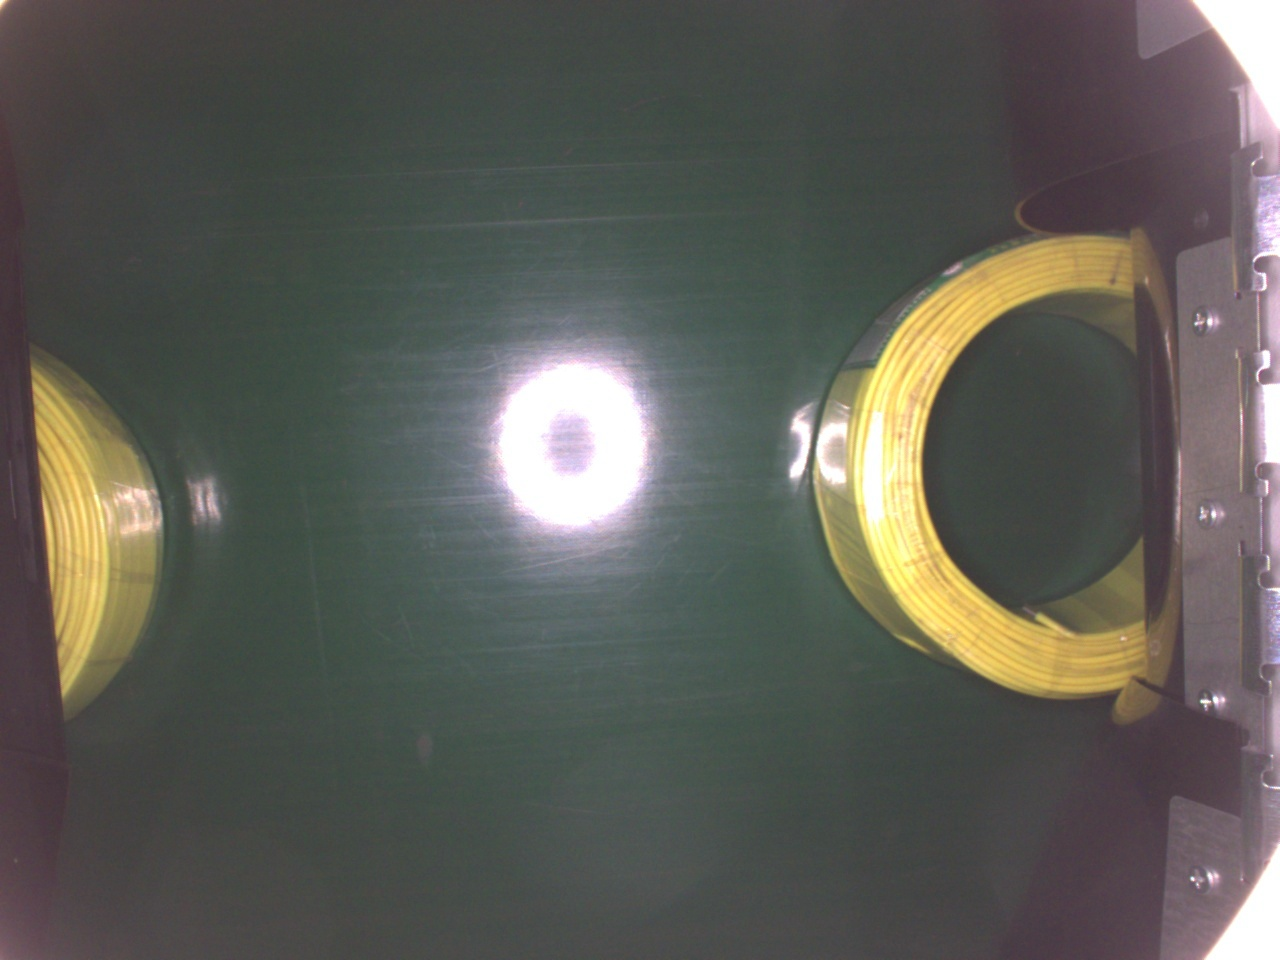yellow: (809, 227, 1152, 701), (30, 341, 173, 728)
